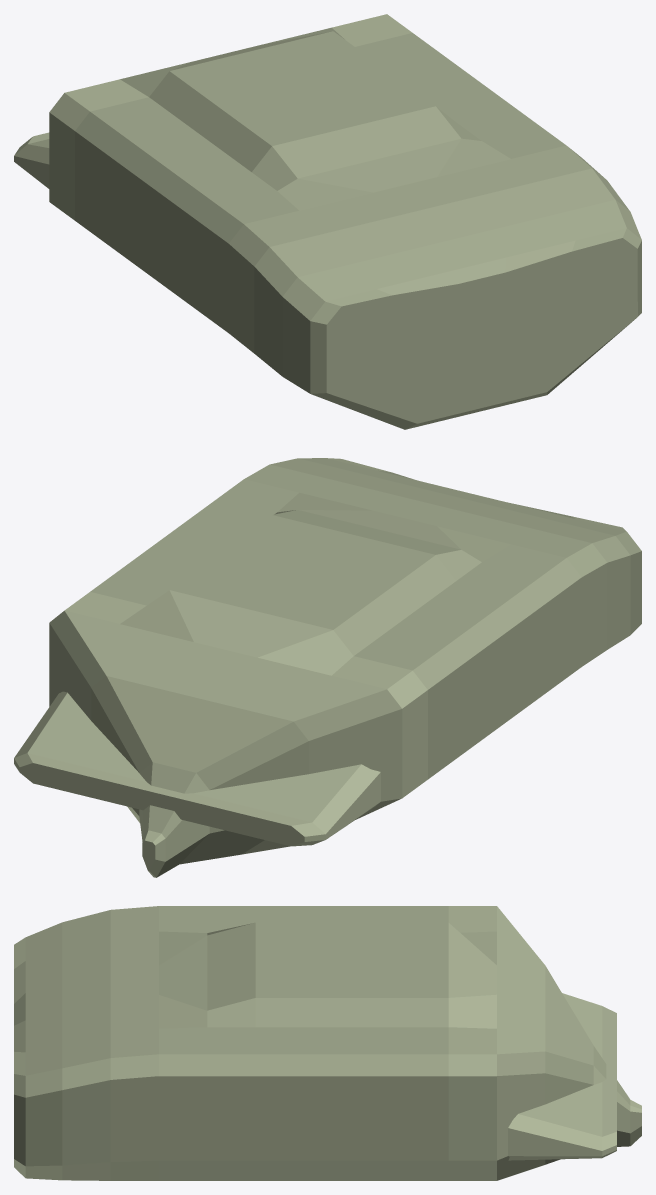
File: hartmann_heavy_a.glb
The picture shows the model from 3 angles, top to bottom: view 1: azimuth 30°, elevation 25°; view 2: azimuth 150°, elevation 25°; view 3: azimuth 270°, elevation 25°; orthographic projection. The views are drawn at different scales.
Parts seen in each view (by area): view 1: hartmann_heavy_a; view 2: hartmann_heavy_a; view 3: hartmann_heavy_a.
Part boxes in pixels (x1=…): hartmann_heavy_a: x1=14, y1=14, x2=641, y2=429; hartmann_heavy_a: x1=14, y1=458, x2=641, y2=877; hartmann_heavy_a: x1=14, y1=906, x2=641, y2=1180.
Bounding box in the file's own units: 4.4 × 2.35 × 7.2.
